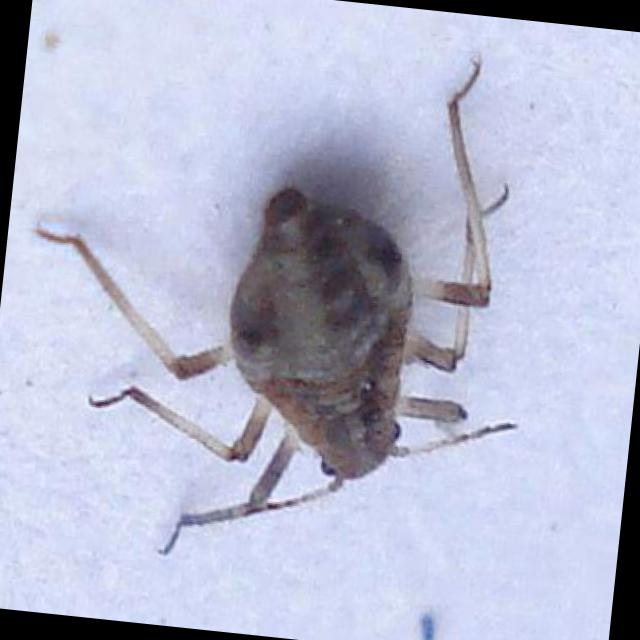Aphids: (60, 25, 537, 589)
